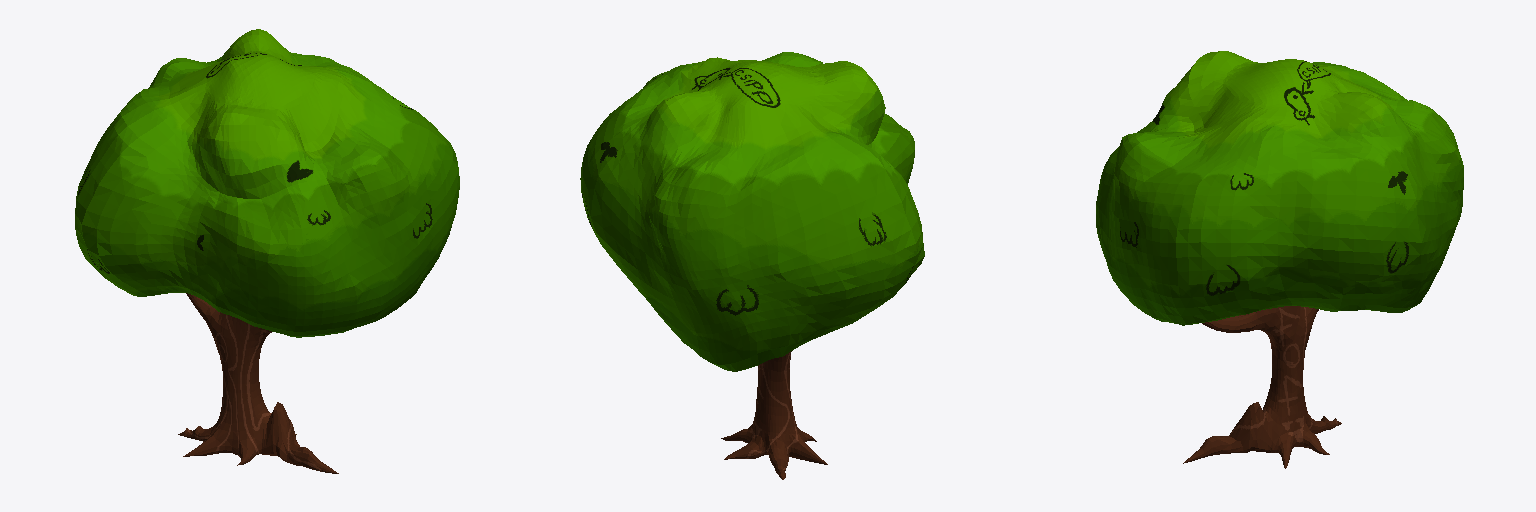
3 views of the same model, side by side, from view 1: azimuth 30°, elevation 25°; view 2: azimuth 150°, elevation 25°; view 3: azimuth 270°, elevation 25° (orthographic).
Parts seen in each view (by area): view 1: model_0; view 2: model_0; view 3: model_0.
Boxes of the visible parts, box(x1,y1,x2,y2) form: model_0: box(75, 29, 459, 473); model_0: box(580, 52, 924, 479); model_0: box(1096, 51, 1463, 468).
Size of the model in its own units: 84.83 by 96.48 by 84.06.
Materials: 1 (1 with a texture image).